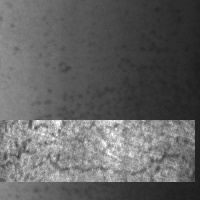crazing: (0, 120, 195, 182)
pitted_surface: (19, 21, 150, 191)
